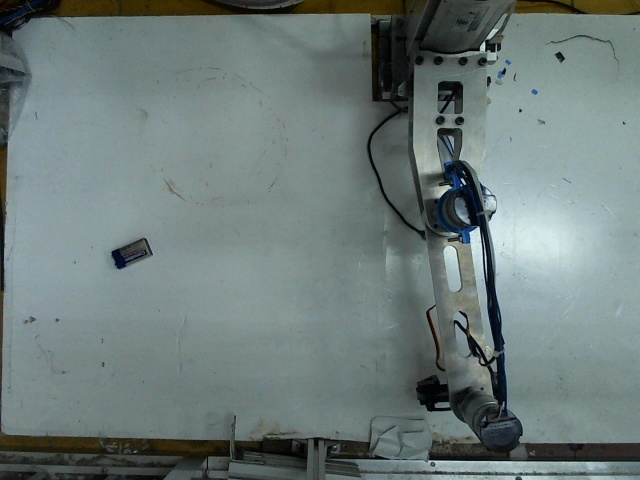battery: (107, 235, 155, 267)
